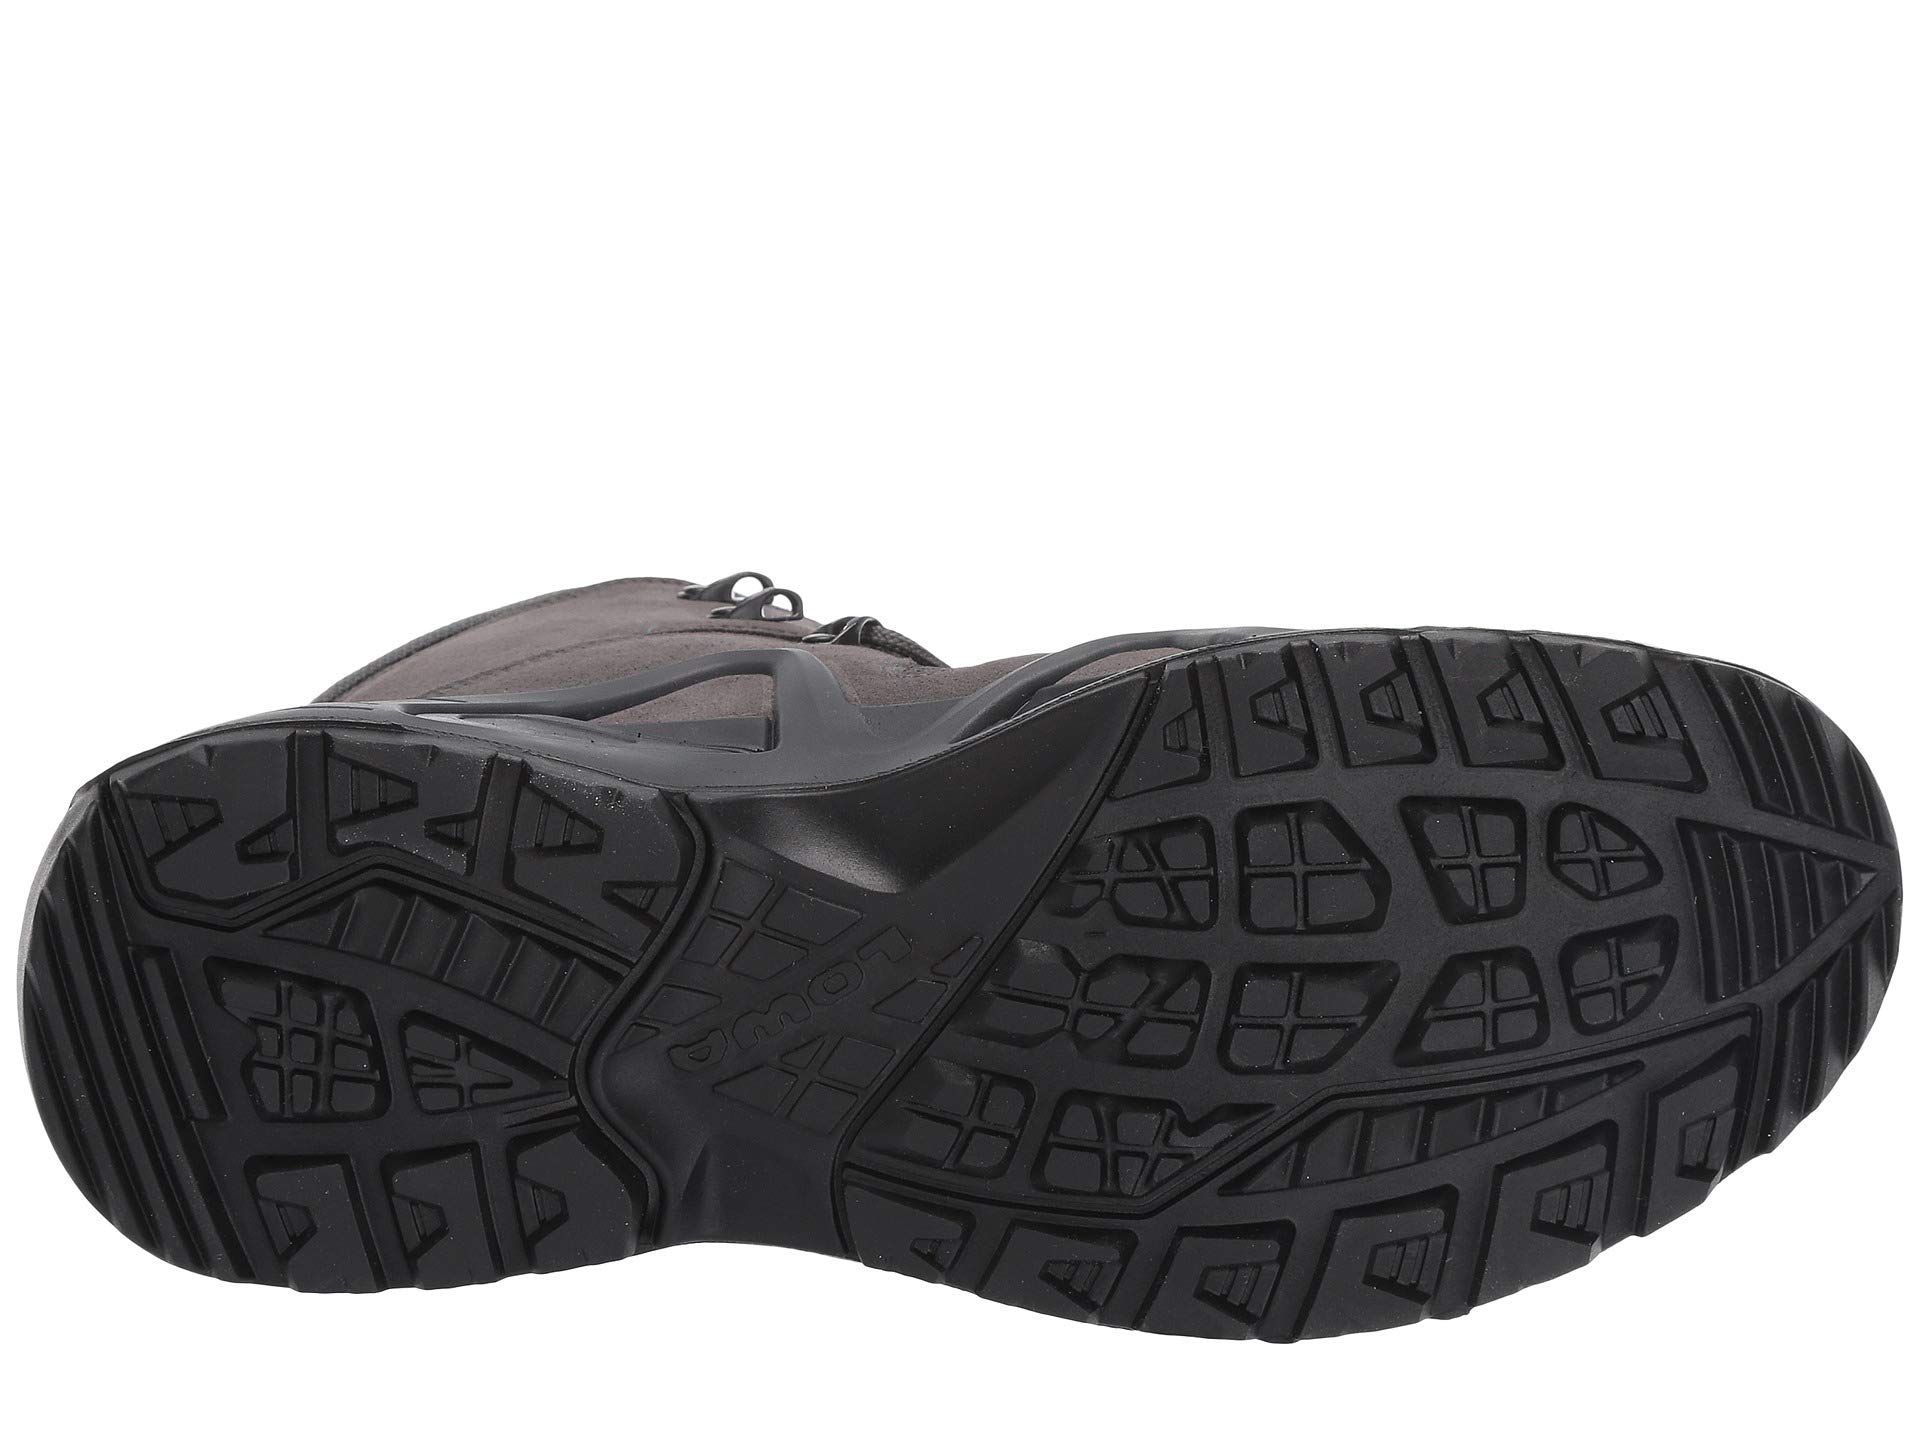chevron: (375, 995, 570, 1150)
line: (1665, 779, 1888, 1010)
quad: (1214, 768, 1409, 961), (375, 995, 570, 1150)
triangle: (1665, 779, 1888, 1010), (375, 995, 570, 1150)
